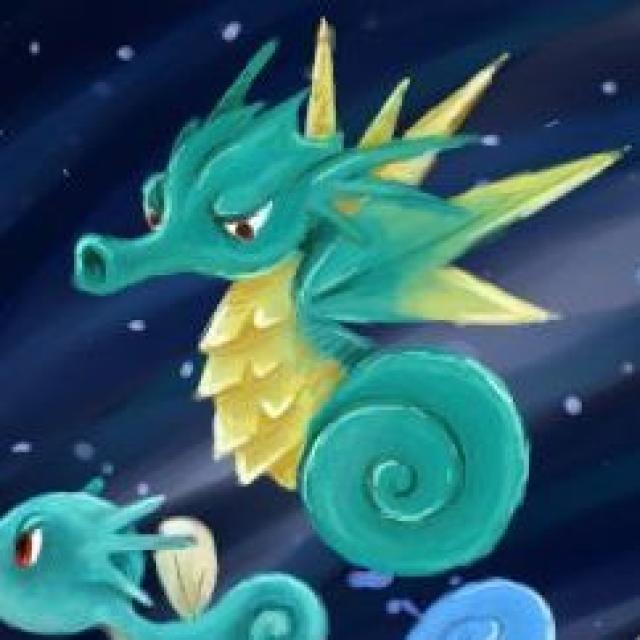Seadra: (79, 12, 534, 576)
